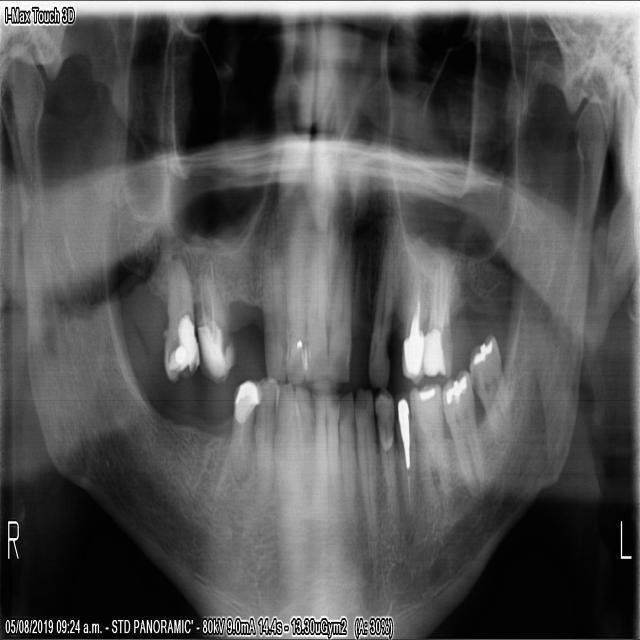LCD: (372, 384, 399, 530)
LID: (350, 381, 377, 564)
LIU: (323, 221, 357, 386), (302, 224, 328, 384)
LMD: (437, 360, 484, 503), (405, 376, 453, 515), (465, 324, 509, 452)
LPMU: (396, 227, 426, 385), (420, 237, 452, 381)
RIU: (281, 210, 307, 383), (259, 211, 284, 384)
RMU: (158, 249, 200, 385)
